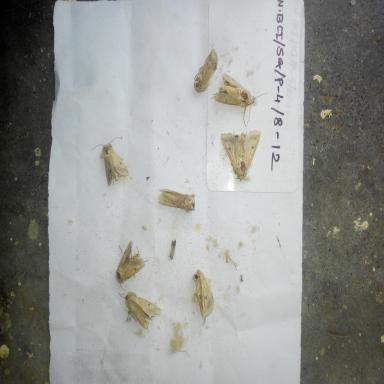abw: (211, 71, 270, 131), (216, 124, 264, 184), (114, 286, 164, 340), (90, 132, 134, 190), (113, 235, 152, 289), (187, 262, 219, 326), (154, 183, 198, 218), (192, 44, 222, 95)
